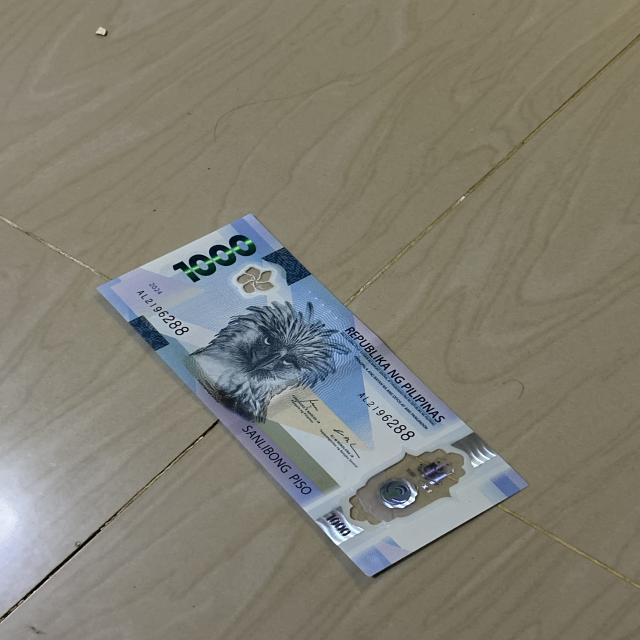clear_window: (318, 451, 495, 522)
eagle: (195, 305, 349, 406)
sampaguita: (235, 267, 274, 296)
